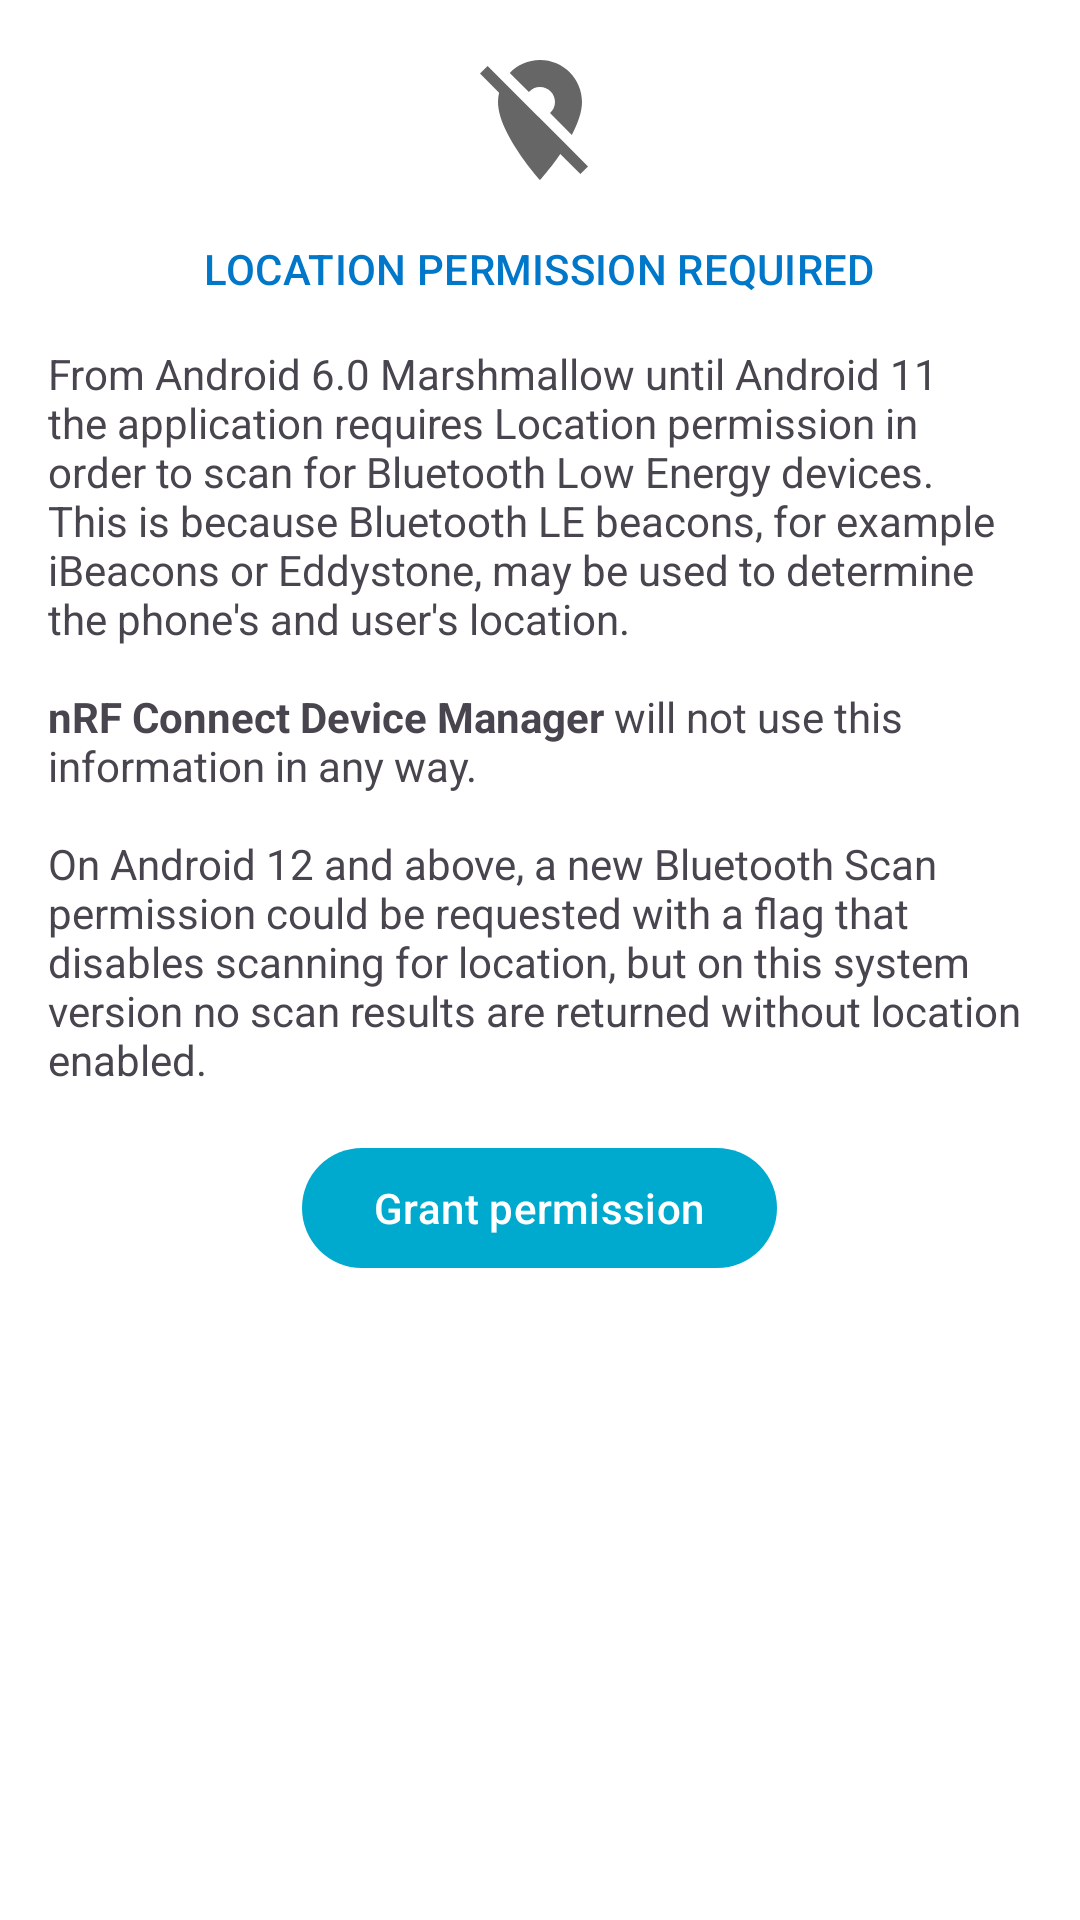

Point at icon controls on the screen. Image size 1080*1920, points as [x,y].
location off: [534,120]
